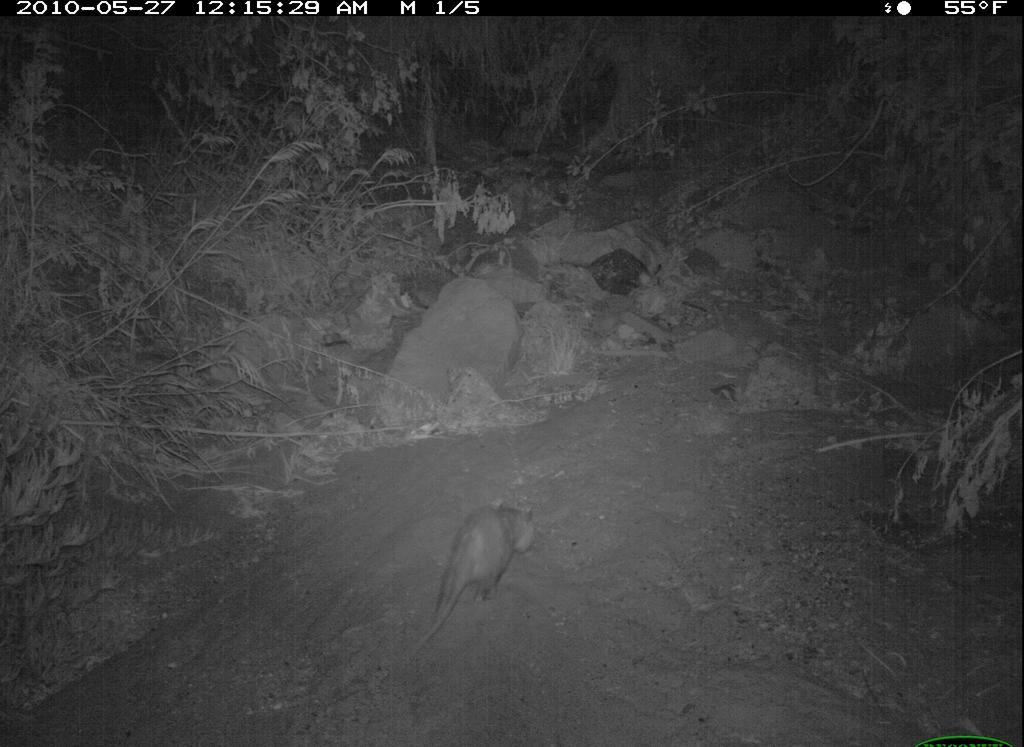opossum: (391, 498, 554, 669)
